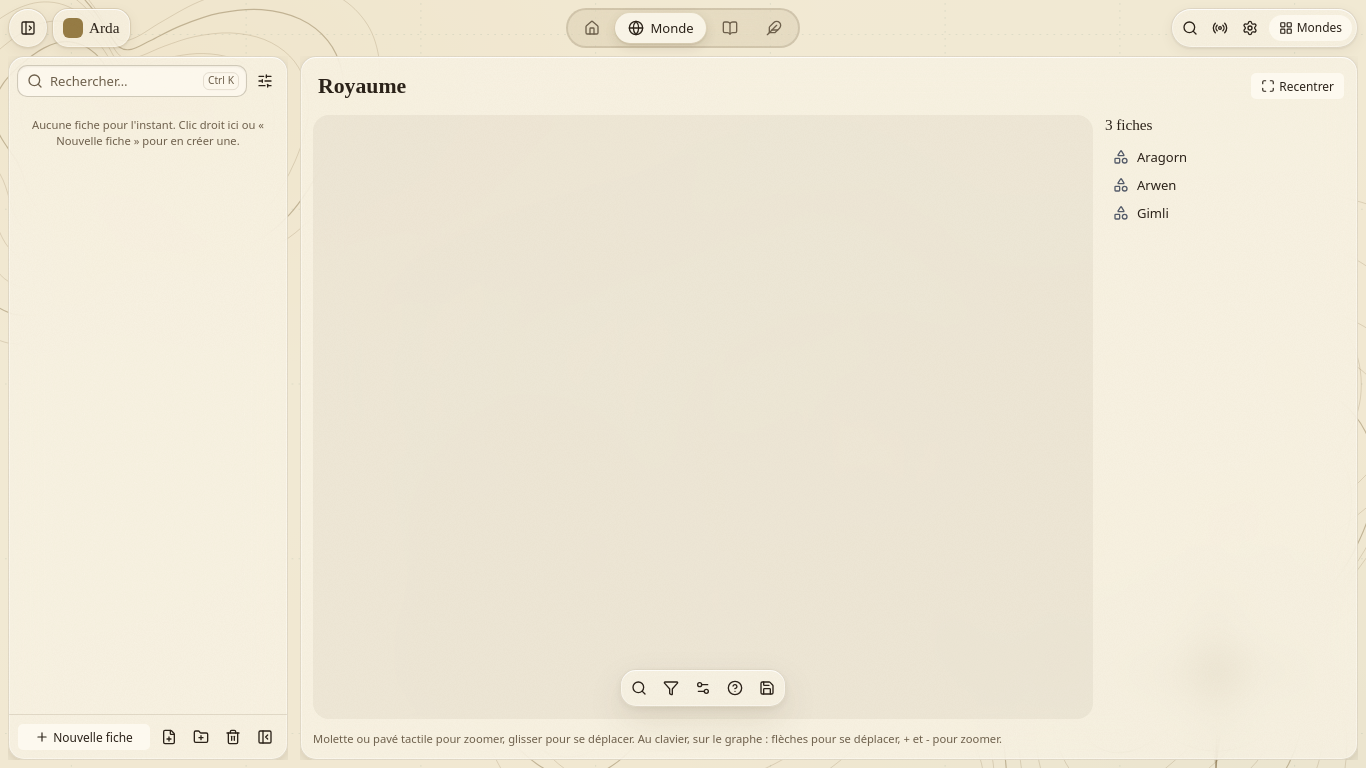
Test case: « À quoi sert le Graphe ? » explains it from the toolbar
The width and height of the screenshot is (1366, 768).
Click the button named "À quoi sert le Graphe ?" at (735, 688), box [721,674,749,702]
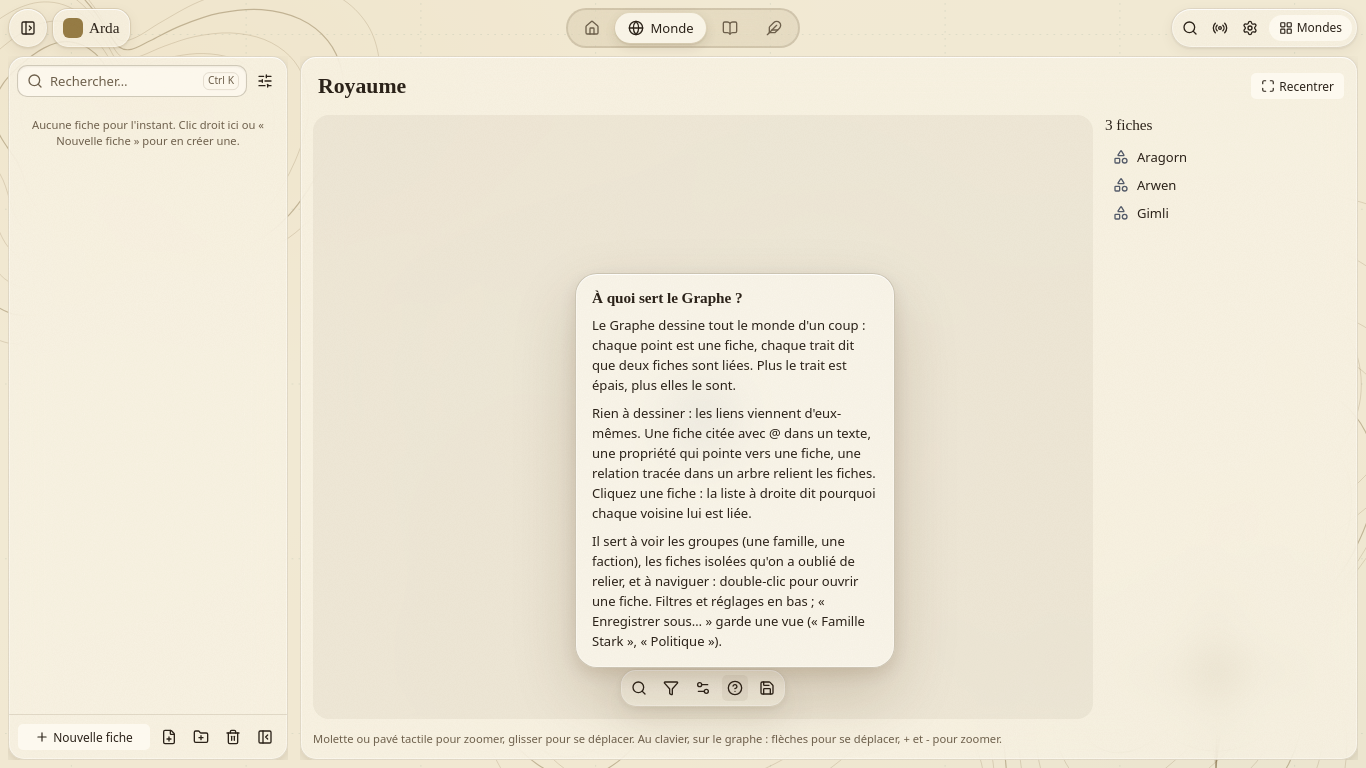
Result: the text "chaque point est une fiche" is shown at [592,316,866,394]
Result: the text "une relation tracée dans un arbre" is shown at [592,404,876,522]
